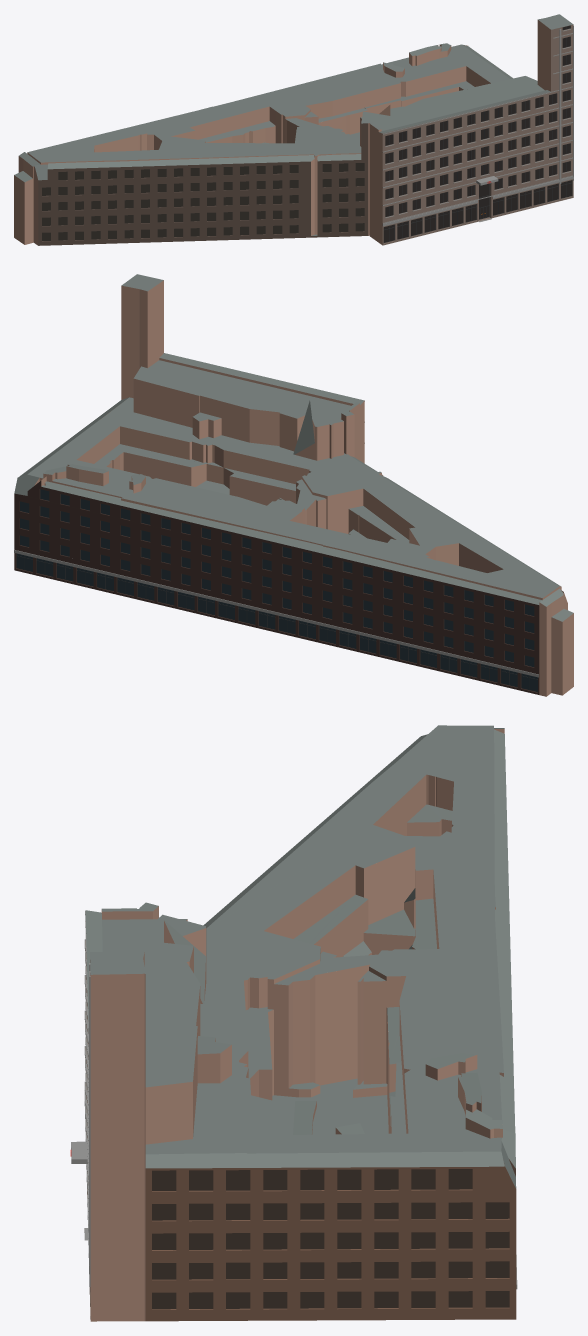
File: recipe-large-oba-javaplein.glb
The picture shows the model from 3 angles, top to bottom: view 1: azimuth 30°, elevation 25°; view 2: azimuth 150°, elevation 25°; view 3: azimuth 270°, elevation 25°; orthographic projection. The views are drawn at different scales.
Parts seen in each view (by area): view 1: oba-javaplein; view 2: oba-javaplein; view 3: oba-javaplein.
Part boxes in pixels (x1,y1,x2,y2): oba-javaplein: (14,14,573,245); oba-javaplein: (14,274,573,696); oba-javaplein: (70,725,517,1321).
Size of the model in its own units: 100 by 36.11 by 41.99.
